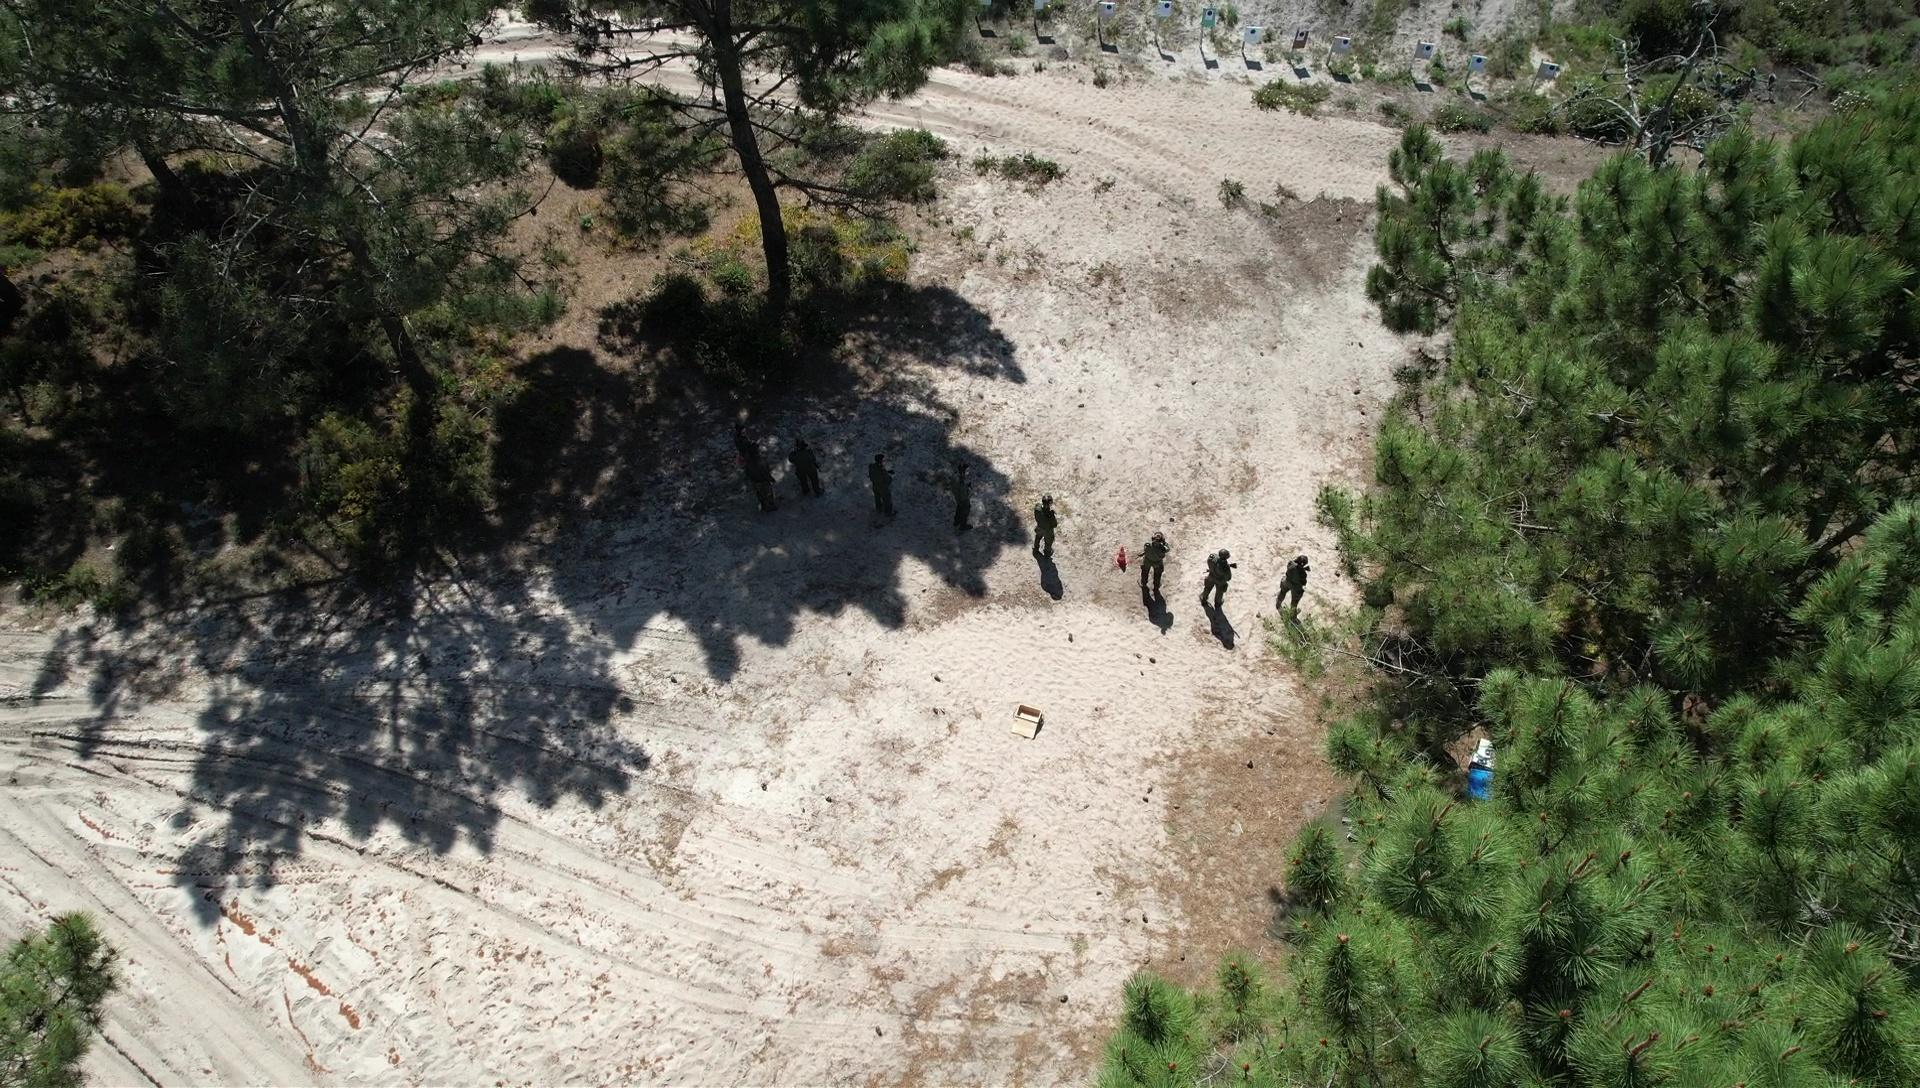Soldier: (1269, 543, 1317, 622), (1134, 531, 1178, 620), (1195, 546, 1240, 630), (939, 459, 982, 541), (1026, 483, 1069, 564), (786, 434, 828, 517), (735, 435, 779, 509), (862, 452, 905, 524)
